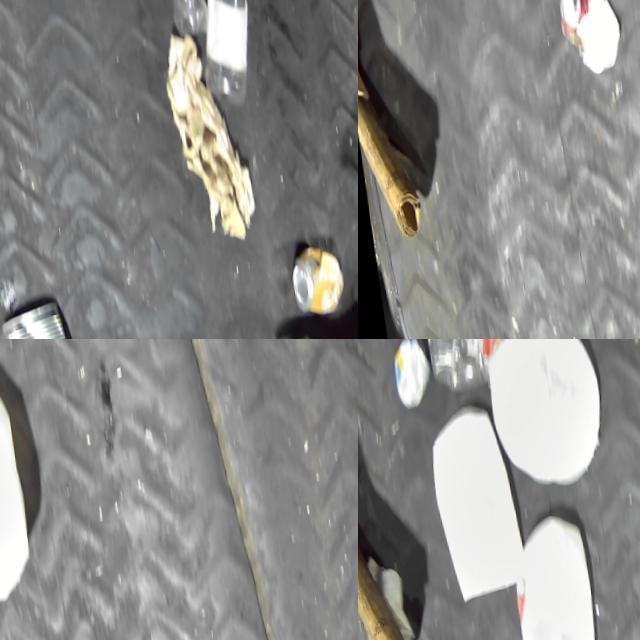can: (0, 362, 39, 621), (544, 0, 630, 86), (282, 241, 347, 326), (0, 301, 71, 339)
milk_jug: (418, 401, 526, 607), (478, 339, 609, 499), (502, 511, 607, 640)
plastic_bottle: (179, 0, 264, 116), (407, 339, 500, 398), (144, 0, 211, 51)
